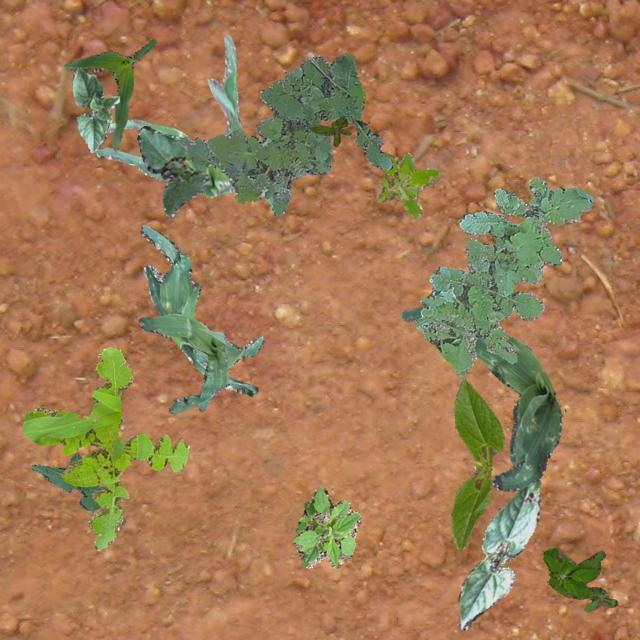crop: (400, 304, 560, 490), (94, 35, 240, 196), (140, 224, 264, 396), (458, 478, 540, 630), (62, 38, 156, 150), (138, 312, 228, 412), (450, 378, 502, 550), (136, 125, 208, 216), (30, 452, 104, 516), (72, 66, 118, 152)
weed: (413, 176, 592, 376), (178, 54, 392, 215), (22, 346, 188, 550), (292, 486, 361, 568), (542, 546, 616, 610), (376, 152, 438, 218), (310, 116, 350, 146)
